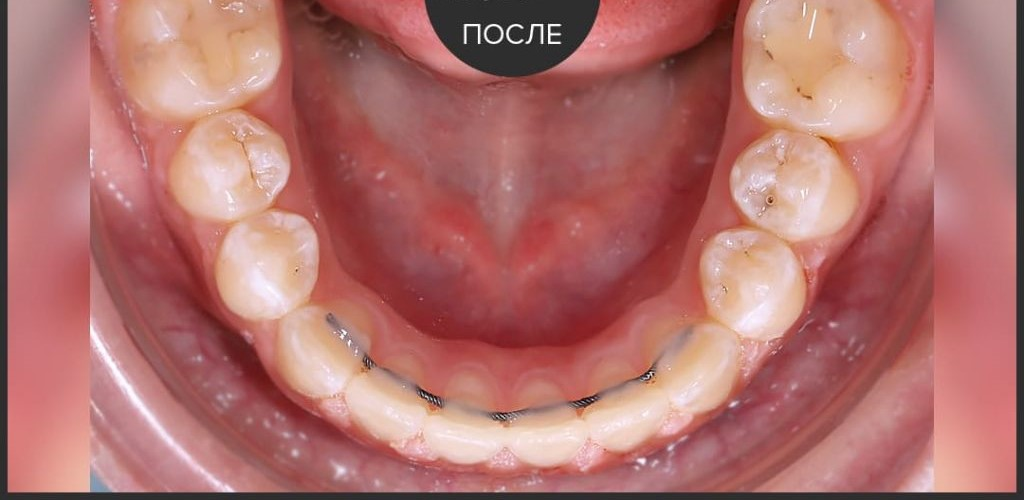LL1BC_healthy: (691, 227, 810, 339)
LL1M_decay: (733, 1, 916, 137)
LL2BC_decay: (728, 126, 863, 242)
LLCI_decay: (509, 380, 587, 466)
LLC_decay: (651, 322, 741, 412)
LLLI_decay: (581, 363, 671, 452)
LR1BC_healthy: (216, 211, 318, 322)
LR1M_decay: (95, 1, 283, 113)
LR2BC_decay: (167, 103, 295, 220)
LRCI_decay: (425, 373, 509, 463)
LRC_decay: (275, 298, 376, 396)
LRLI_decay: (341, 361, 434, 442)
